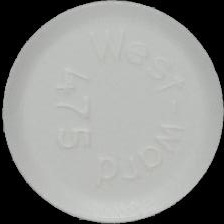60429-130: (0, 0, 224, 224)
